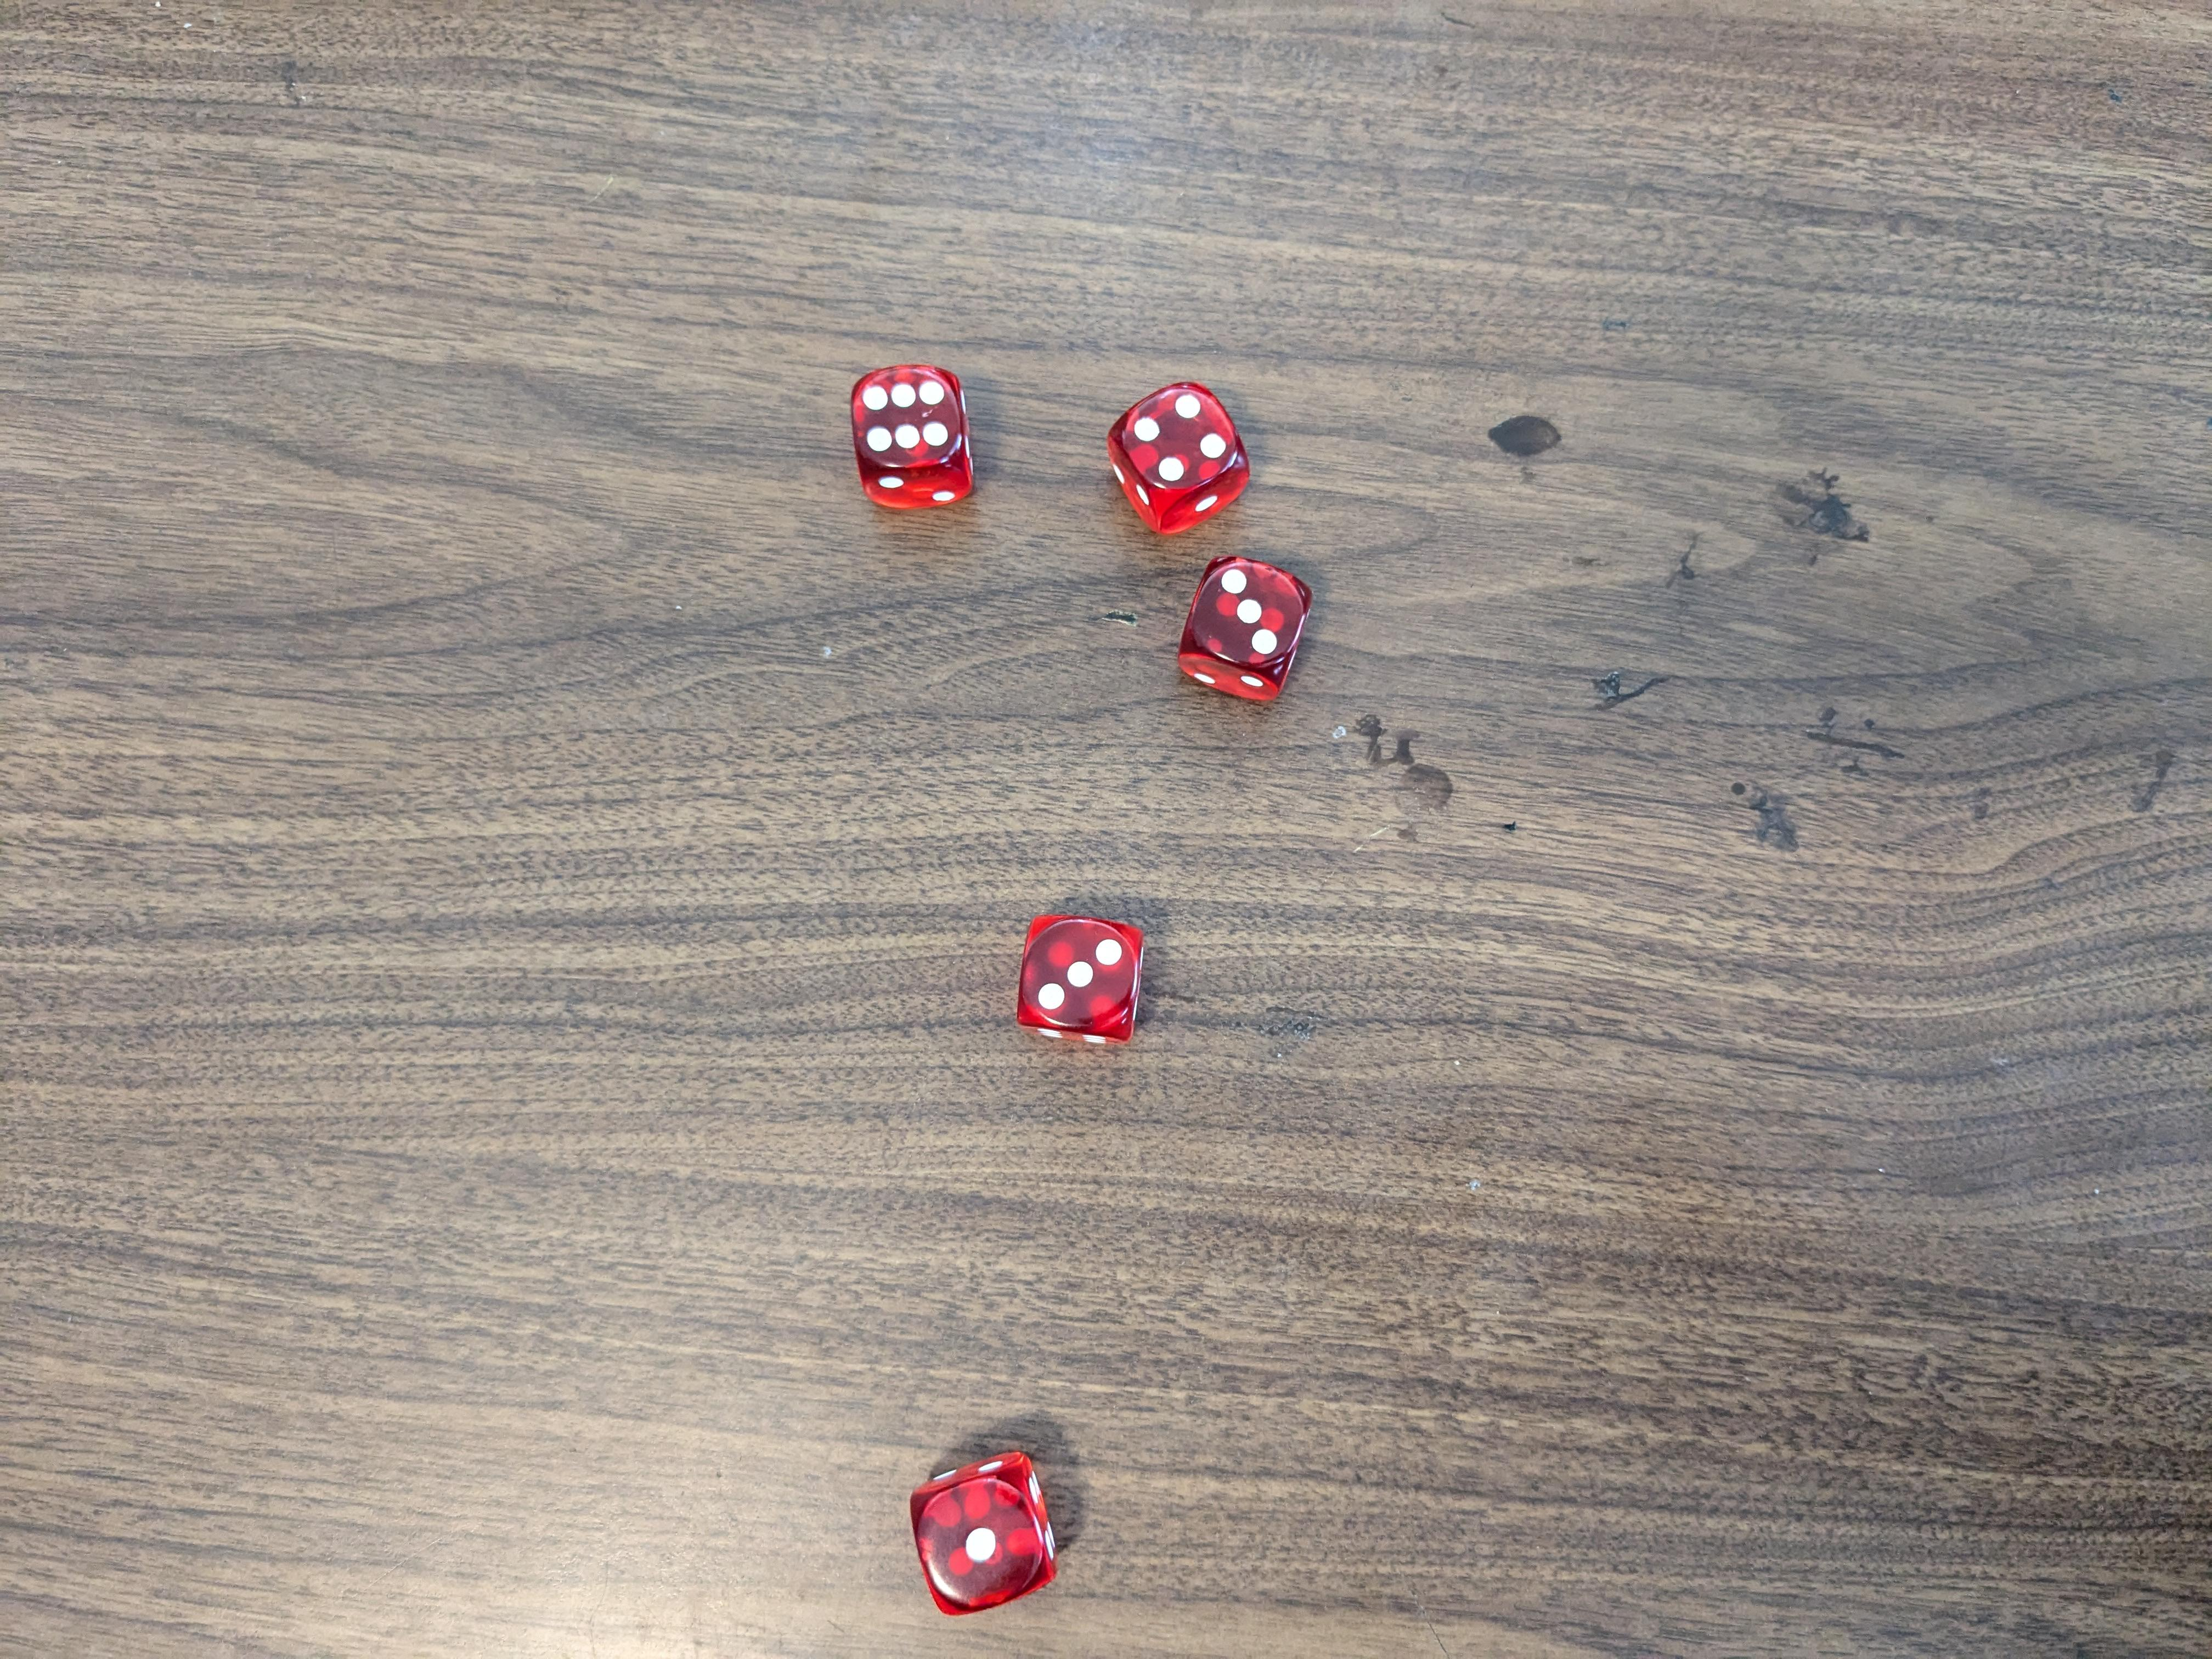four: (1099, 375, 1247, 533)
one: (902, 1450, 1068, 1622)
six: (850, 359, 977, 518)
three: (1181, 549, 1312, 711), (1017, 911, 1148, 1053)
